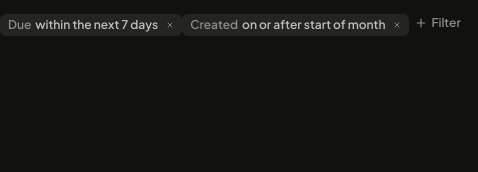
Test case: PredicateChips — date chips › a date chip’s tooltip spells its exact days, resolved against today (cr25 P7)
Hover over the element with test id "list-filter-chip" showing "Due within the next 7 days".
mouse_move(91, 25)  # box [0,14,182,36]
Wait 400 ms
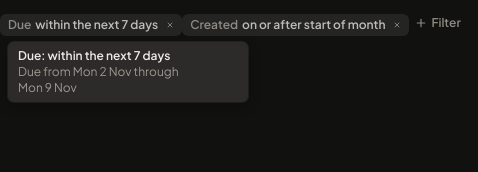
Result: the tooltip reads "Due: within the next 7 days Due from Mon 2 Nov through Mon 9 Nov" at [8,42,248,102]
